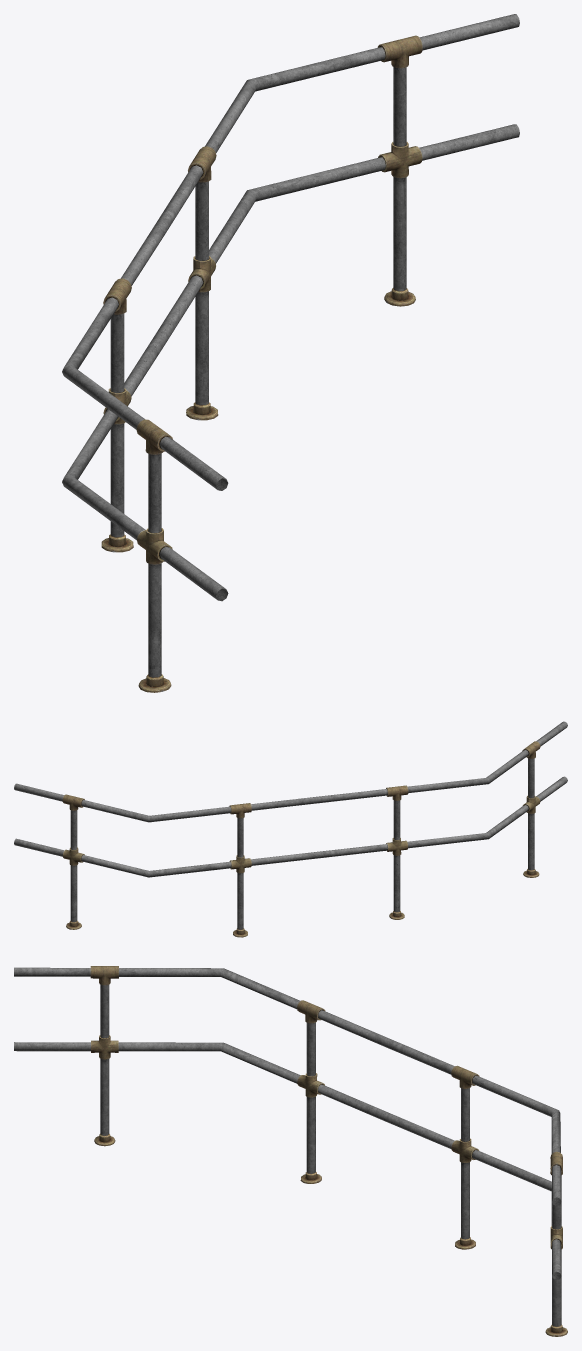
File: 03_02_containment_room_railing_side.dae
3 renders of one model, top to bottom at view 1: azimuth 30°, elevation 25°; view 2: azimuth 150°, elevation 25°; view 3: azimuth 270°, elevation 25°, orthographic. The views are drawn at different scales.
Parts seen in each view (by area): view 1: polySurface60; view 2: polySurface60; view 3: polySurface60.
Part boxes in pixels (box(x1,y1,x2,y2)): polySurface60: box(62, 14, 519, 692); polySurface60: box(14, 721, 567, 937); polySurface60: box(14, 966, 567, 1336).
Bounding box in the file's own units: 4.29 × 1.49 × 4.29.
